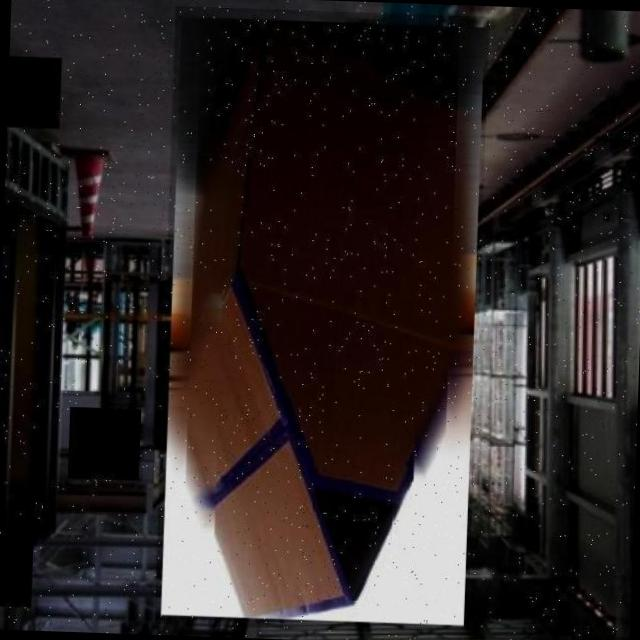box: (154, 5, 489, 635)
